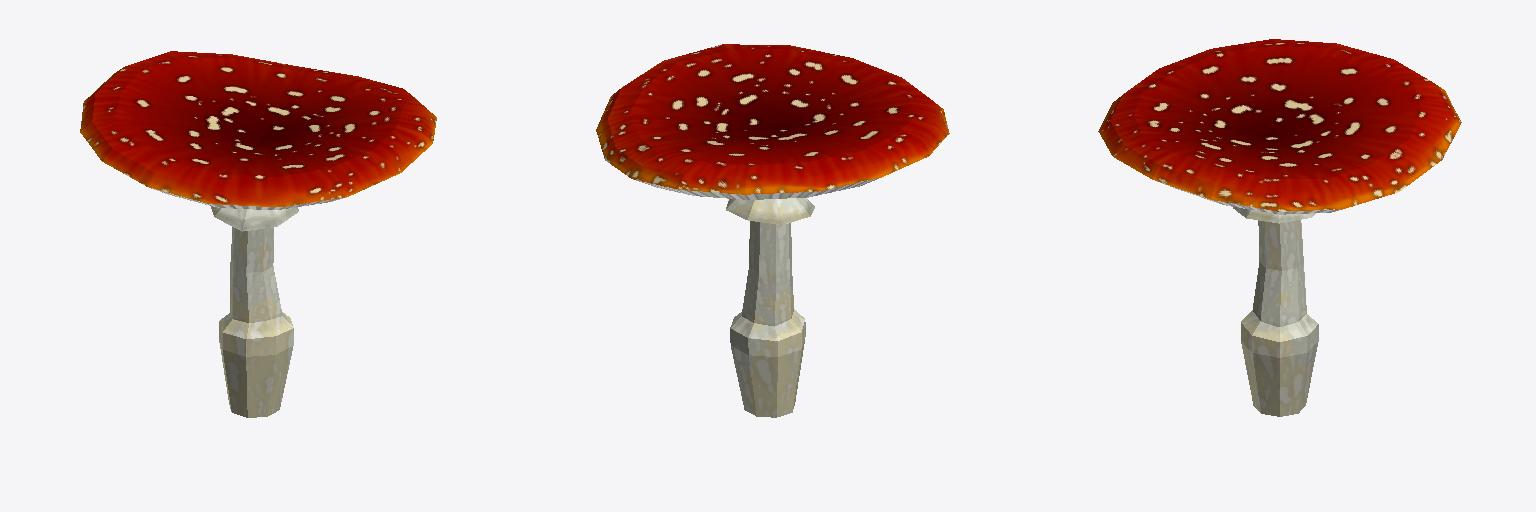
The picture shows the model from 3 angles: view 1: azimuth 30°, elevation 25°; view 2: azimuth 150°, elevation 25°; view 3: azimuth 270°, elevation 25°; orthographic projection.
Parts seen in each view (by area): view 1: amanita_A; view 2: amanita_A; view 3: amanita_A.
Boxes of the visible parts, <box> form: amanita_A: <box>80,51,436,417</box>; amanita_A: <box>596,44,949,417</box>; amanita_A: <box>1098,39,1461,416</box>.
Bounding box in the file's own units: 1.15 × 1.05 × 1.15.
Materials: 1 (1 with a texture image).